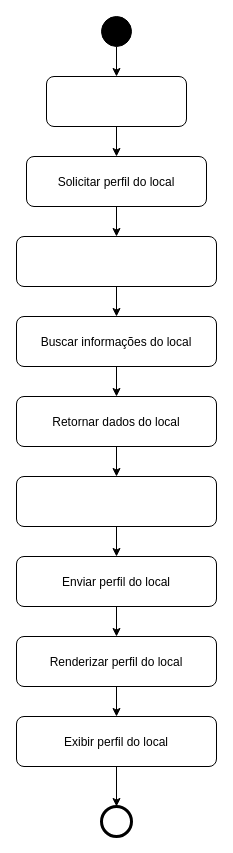
Some shapes in this 233 by 853 pixel diagram are drawn without their labels. The shapes that lost their labels are listed below. From the top down, each one's centre as x and y in pixels, then its label:
At point (116, 101): "Clicar em local".
At point (116, 261): "Buscar dados do local".
At point (116, 501): "Retornar perfil do local".
